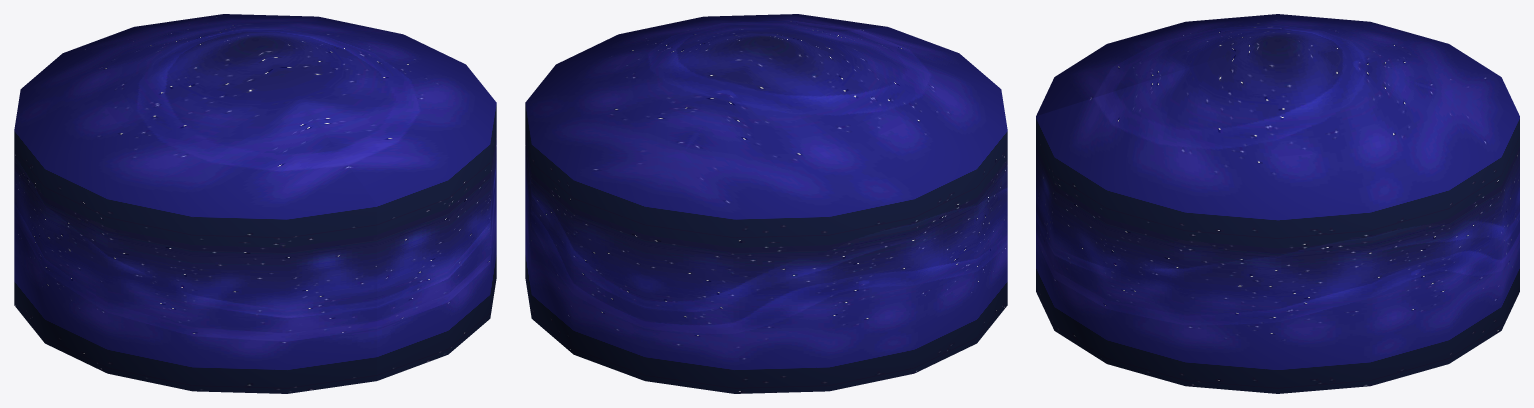
3 views of the same model, side by side, from view 1: azimuth 30°, elevation 25°; view 2: azimuth 150°, elevation 25°; view 3: azimuth 270°, elevation 25° (orthographic).
Parts seen in each view (by area): view 1: CmnVR10; view 2: CmnVR10; view 3: CmnVR10.
Boxes of the visible parts, bbox=[...] form: CmnVR10: bbox=[14, 14, 496, 393]; CmnVR10: bbox=[525, 14, 1007, 393]; CmnVR10: bbox=[1036, 14, 1519, 393].
Bounding box in the file's own units: 20000 × 14500 × 20000.
